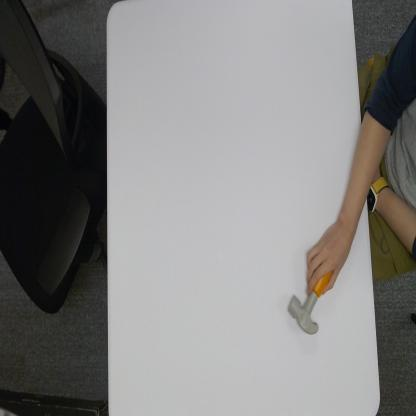Arm: (341, 121, 366, 240)
Hammer: (288, 273, 331, 336)
Hand: (303, 225, 354, 293)
